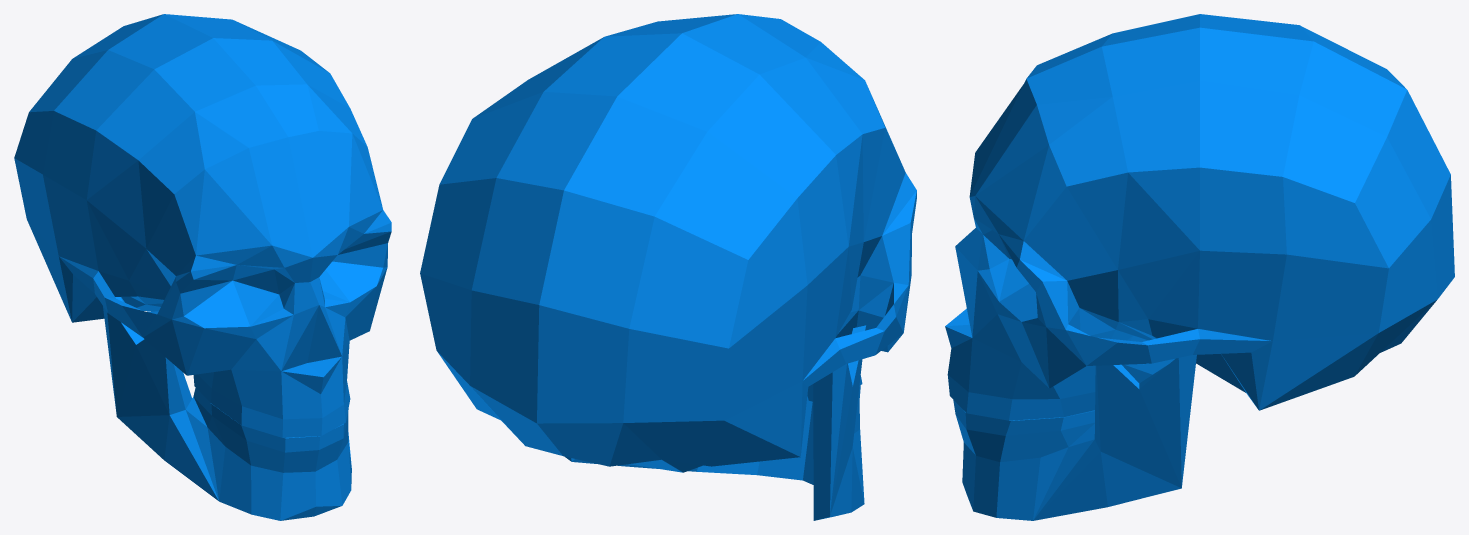
File: scull.glb
3 renders of one model, left to right at view 1: azimuth 30°, elevation 25°; view 2: azimuth 150°, elevation 25°; view 3: azimuth 270°, elevation 25°, orthographic. The views are drawn at different scales.
Visible parts, largest first — view 1: T, B; view 2: T, B; view 3: T, B.
Part boxes in pixels (x1,y1,x2,y2): T: [14, 14, 391, 437]; B: [103, 297, 351, 520]; T: [420, 14, 916, 472]; B: [564, 325, 866, 520]; T: [945, 14, 1454, 420]; B: [953, 335, 1196, 520].
Size of the model in its own units: 1.36 by 1.99 by 1.95.
